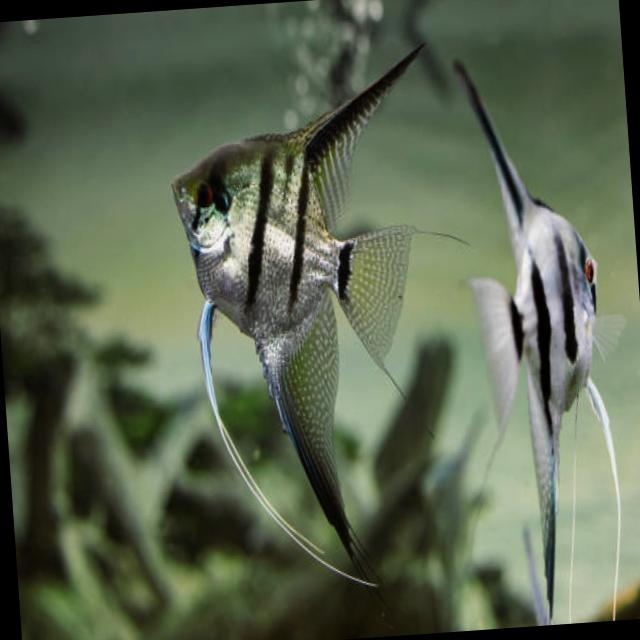AngelFish: (162, 37, 462, 604), (452, 39, 635, 624)
